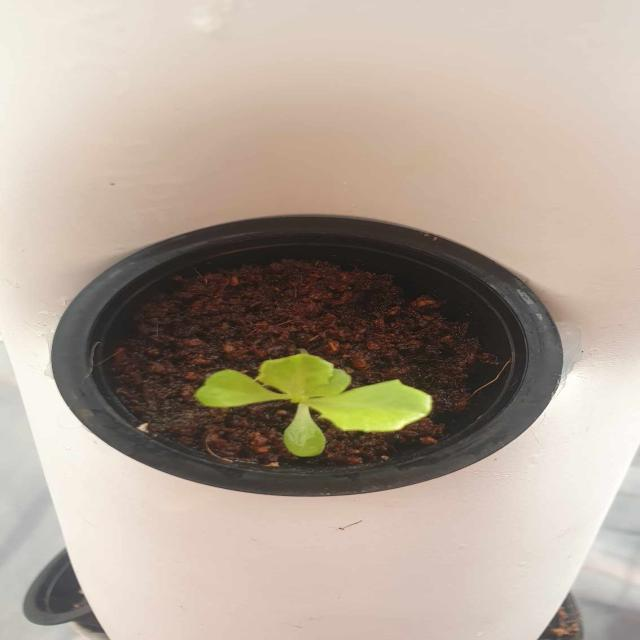Lettuce-Not-Ready-to-Harvest: (190, 348, 437, 463)
